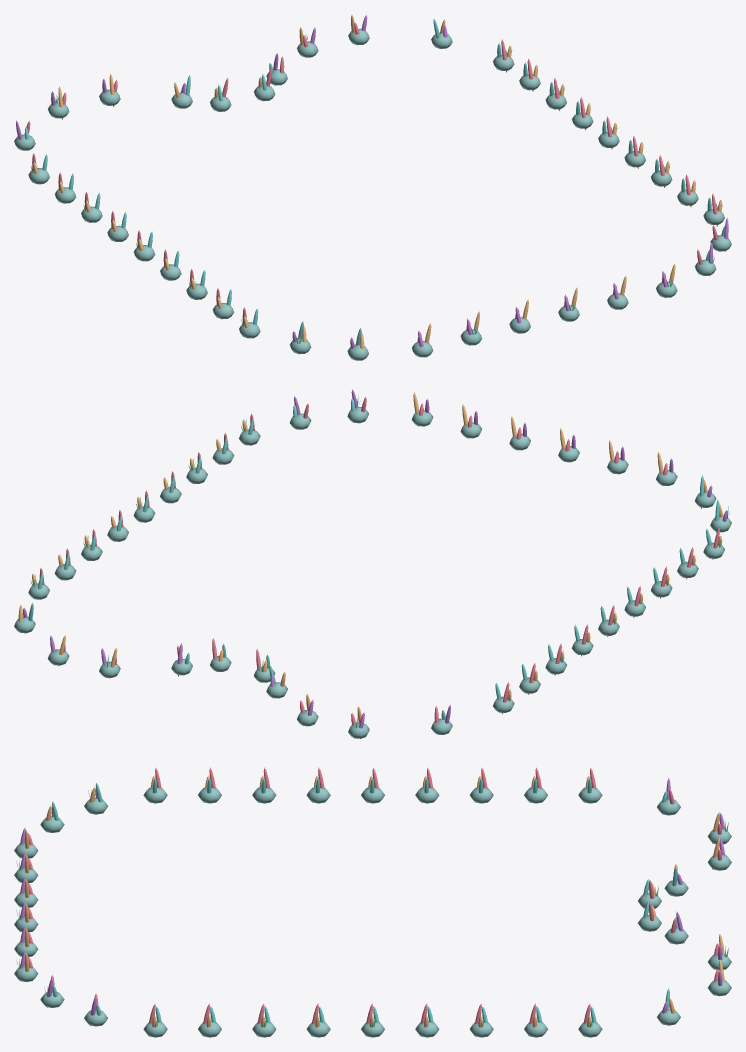
Rendered from reef-09-DgkYMa2L.glb.
3 renders of one model, top to bottom at view 1: azimuth 30°, elevation 25°; view 2: azimuth 150°, elevation 25°; view 3: azimuth 270°, elevation 25°, orthographic. The views are drawn at different scales.
Parts seen in each view (by area): view 1: ReefRock, Coral2, Coral0, Coral3, Coral1; view 2: ReefRock, Coral0, Coral2, Coral3, Coral1; view 3: ReefRock, Coral0, Coral3, Coral2, Coral1.
Boxes of the visible parts, x1,y1,x2,y2 form: ReefRock: [14, 28, 731, 360]; Coral2: [33, 14, 721, 349]; Coral0: [26, 22, 717, 342]; Coral3: [24, 19, 724, 345]; Coral1: [16, 15, 728, 348]; ReefRock: [14, 407, 731, 738]; Coral0: [39, 397, 719, 724]; Coral2: [18, 392, 723, 723]; Coral3: [28, 398, 719, 719]; Coral1: [23, 389, 727, 728]; ReefRock: [14, 787, 731, 1037]; Coral0: [28, 767, 721, 1035]; Coral3: [52, 778, 678, 1022]; Coral2: [24, 775, 724, 1027]; Coral1: [20, 778, 724, 1015].
Size of the model in its own units: 33 by 2.06 by 41.1.
